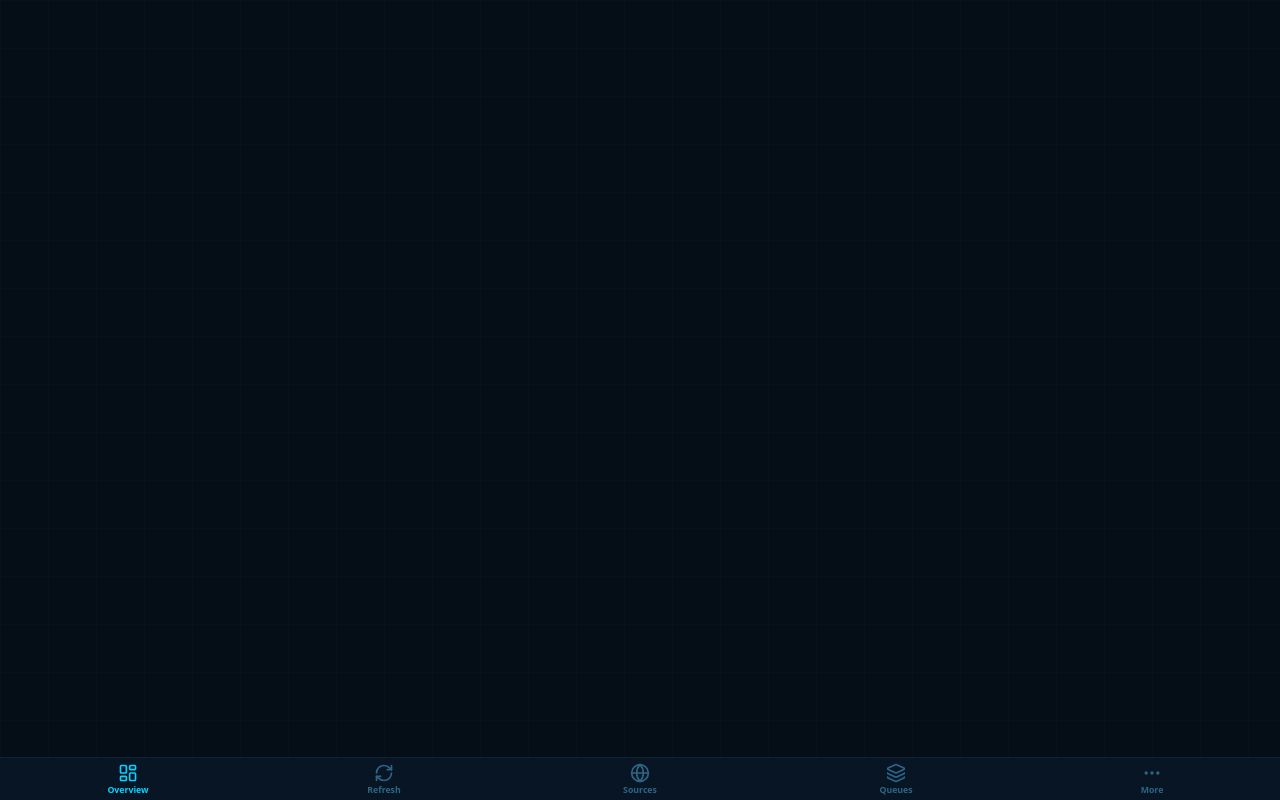
it: MobileNav › opens the More sheet with the full registry when the More tab is activated
Click the button "More": (1152, 779) 1024,758 -> 1279,799
(page scrolled)
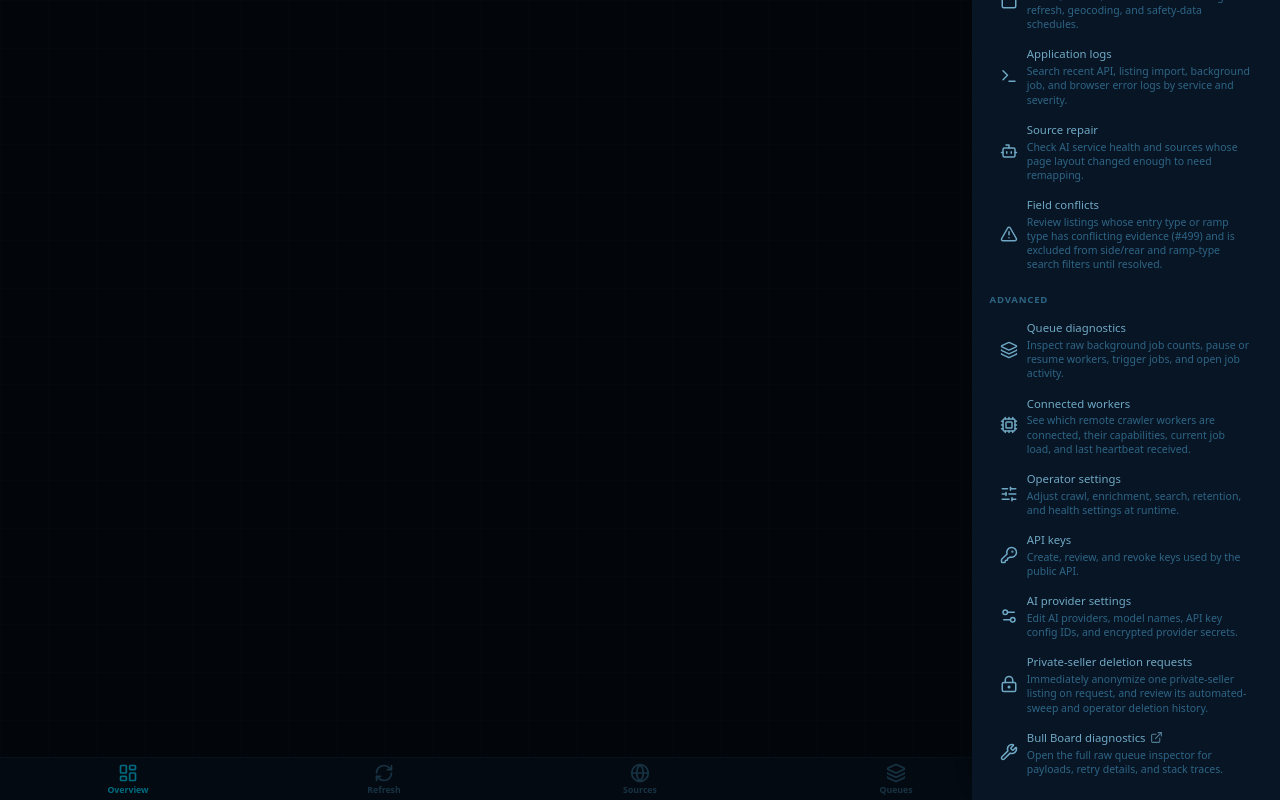
Expected: the dialog named "More navigation" is shown, 972,0 -> 1279,799
Expected: the link "AI provider settings" is shown, 990,585 -> 1262,646
